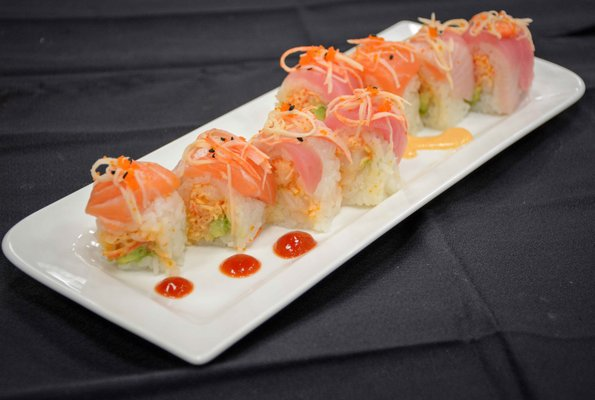soup: (84, 155, 188, 274)
